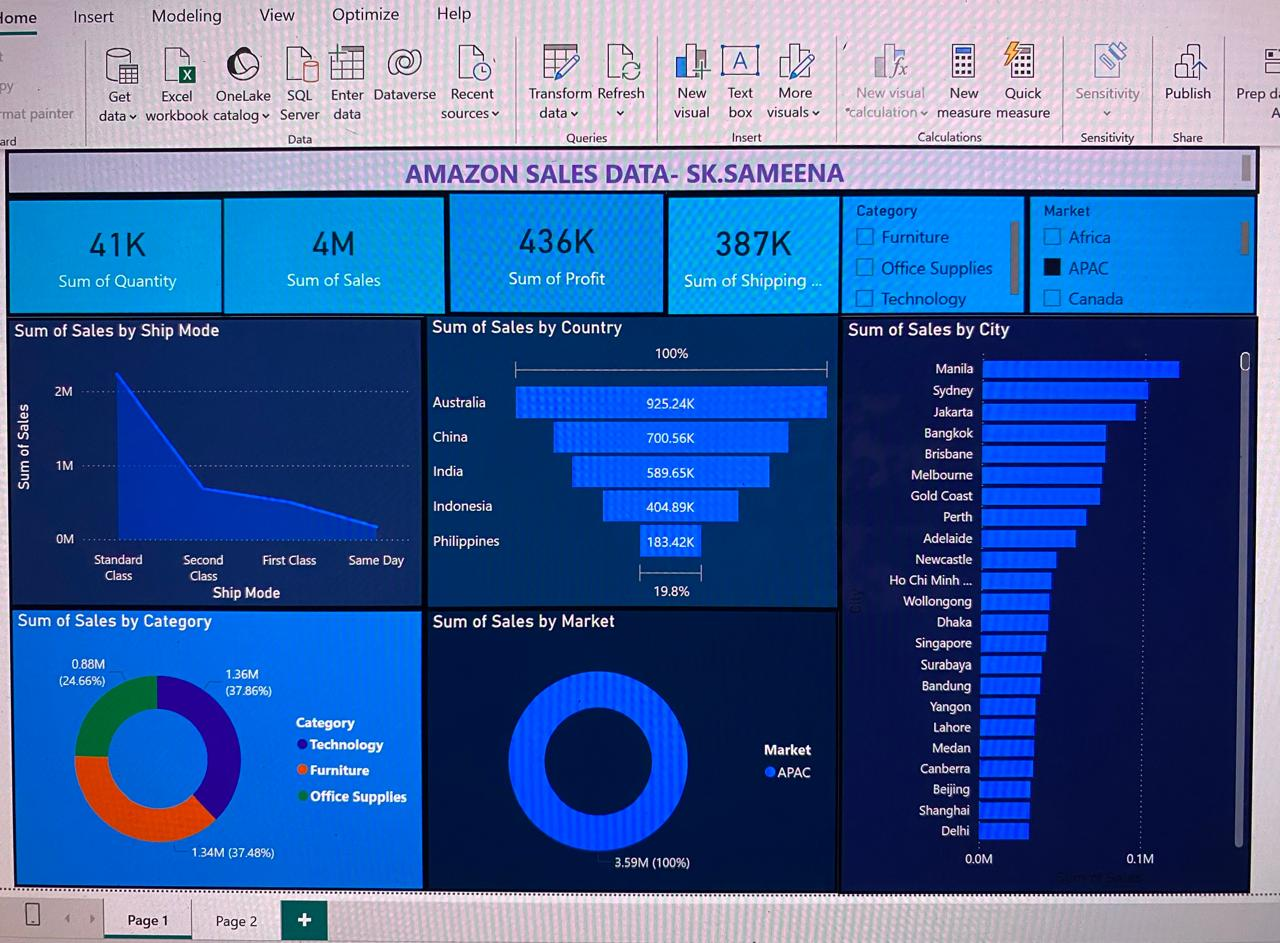

This screenshot's page, from the dashboard's own definition file:
{"tool":"powerbi","page":{"name":"Page 1","canvas":[1280,720],"ordinal":0},"visuals":[{"type":"donutChart","fields":{"Category":["Orders.Category"],"Y":["Sum(Orders.Sales)"]},"box":[35.2,441,405.7,266.4],"z":0},{"type":"donutChart","fields":{"Category":["Orders.Market"],"Y":["Sum(Orders.Sales)"]},"box":[451.7,441,369,271],"z":1000},{"type":"areaChart","fields":{"Category":["Orders.Ship Mode"],"Y":["Sum(Orders.Sales)"]},"box":[19.9,117.9,421.1,313.9],"z":2000},{"type":"clusteredBarChart","fields":{"Category":["Orders.City"],"Y":["Sum(Orders.Sales)"]},"box":[840.6,130.1,396.6,577.2],"z":3000},{"type":"funnel","fields":{"Category":["Orders.Country"],"Y":["Sum(Orders.Sales)"]},"box":[445.6,117.9,379.7,313.9],"z":4000},{"type":"textbox","box":[281.7,33.7,843.6,65.8],"z":5000}]}

Visuals, with their boxes in screenshot pixels (x1, y1, x2, y2):
donutChart - Orders.Category x Sum(Orders.Sales): 23/614/437/887
donutChart - Orders.Market x Sum(Orders.Sales): 448/614/826/891
areaChart - Orders.Ship Mode x Sum(Orders.Sales): 7/284/438/605
clusteredBarChart - Orders.City x Sum(Orders.Sales): 846/296/1252/886
funnel - Orders.Country x Sum(Orders.Sales): 442/284/830/605
textbox: 275/198/1137/265
